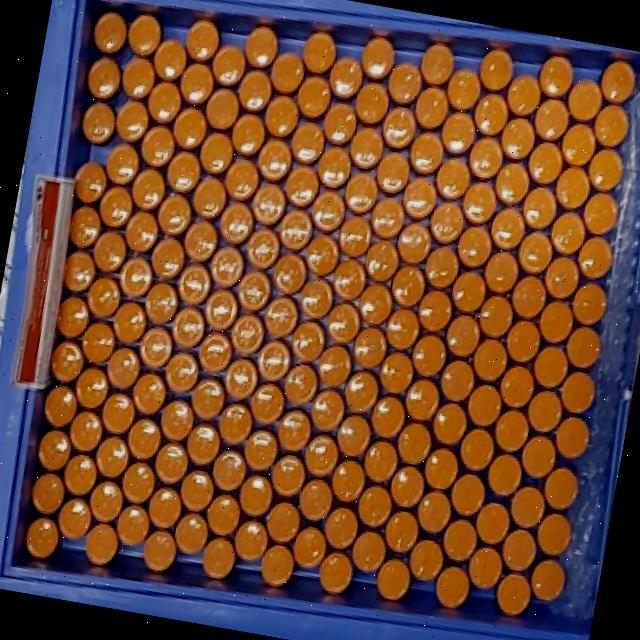vials: (0, 0, 640, 640), (495, 572, 531, 616), (600, 59, 635, 104), (467, 546, 503, 589), (505, 320, 541, 363), (511, 275, 547, 318), (533, 98, 569, 141), (587, 148, 623, 191), (582, 192, 618, 235), (571, 282, 607, 325), (86, 56, 121, 100), (150, 236, 185, 280), (357, 484, 392, 528), (409, 131, 444, 175), (527, 142, 563, 184), (179, 62, 214, 105), (211, 44, 246, 87), (237, 69, 272, 112), (278, 208, 313, 251), (74, 366, 109, 409), (121, 461, 156, 504), (238, 473, 273, 516), (296, 75, 331, 118), (328, 56, 363, 99), (265, 501, 300, 544), (322, 102, 357, 145), (336, 414, 371, 457), (387, 62, 422, 105), (379, 351, 414, 394), (363, 440, 398, 483), (411, 334, 446, 377), (417, 289, 452, 332), (440, 359, 475, 402), (432, 402, 467, 445), (442, 519, 477, 562), (446, 68, 481, 111), (457, 225, 492, 268), (450, 473, 485, 516), (475, 502, 510, 545), (536, 513, 571, 556), (510, 486, 545, 529), (467, 384, 502, 427), (459, 428, 494, 471), (487, 453, 522, 496), (494, 409, 529, 452), (521, 435, 556, 478), (543, 467, 578, 510), (538, 55, 573, 98), (500, 117, 535, 160), (494, 162, 529, 205), (490, 207, 525, 250), (483, 251, 518, 294), (478, 295, 513, 338), (499, 365, 534, 408), (567, 79, 602, 122), (561, 123, 596, 166), (555, 166, 590, 209), (550, 212, 585, 255), (538, 300, 573, 343), (533, 345, 568, 388), (527, 390, 562, 433), (577, 236, 612, 279), (115, 99, 149, 143), (271, 454, 305, 498), (304, 434, 338, 478), (311, 189, 345, 233), (441, 111, 475, 155), (361, 36, 394, 81), (140, 125, 175, 167), (270, 52, 305, 94), (98, 186, 133, 228), (166, 151, 201, 193), (251, 183, 286, 225), (236, 270, 271, 312), (183, 220, 218, 262), (157, 193, 192, 235), (68, 410, 103, 452), (154, 442, 189, 484), (164, 351, 199, 393), (159, 399, 194, 441), (263, 296, 298, 338), (256, 340, 291, 382), (179, 469, 214, 511), (264, 95, 299, 137), (256, 139, 291, 181), (283, 363, 318, 405), (284, 165, 319, 207), (352, 326, 387, 368), (351, 530, 386, 572), (424, 246, 459, 288), (445, 315, 480, 357), (468, 137, 503, 179), (530, 559, 565, 601), (506, 74, 541, 116), (472, 339, 507, 381), (517, 232, 552, 274), (544, 256, 579, 298), (560, 371, 595, 413), (593, 104, 628, 146), (566, 326, 601, 368), (185, 19, 219, 62), (147, 81, 181, 124), (105, 142, 139, 185), (244, 25, 278, 68), (231, 113, 265, 156), (332, 258, 366, 301), (177, 263, 211, 306), (106, 346, 140, 389), (44, 385, 78, 428), (63, 453, 97, 496), (57, 497, 91, 540), (89, 480, 123, 523), (95, 435, 129, 478), (116, 503, 150, 546), (127, 417, 161, 460), (191, 377, 225, 420), (186, 422, 220, 465), (224, 357, 258, 400), (206, 493, 240, 536), (290, 121, 324, 164), (277, 409, 311, 452), (260, 544, 294, 587), (317, 145, 351, 188), (349, 126, 383, 169), (344, 171, 378, 214), (344, 370, 378, 413), (324, 506, 358, 549), (382, 106, 416, 149), (385, 308, 419, 351), (371, 395, 405, 438), (384, 510, 418, 553), (376, 558, 410, 601), (397, 422, 431, 465), (405, 378, 439, 421), (391, 265, 425, 308), (424, 447, 458, 490), (417, 490, 451, 533), (409, 538, 443, 581), (420, 42, 454, 85), (414, 86, 448, 129), (402, 176, 436, 219), (429, 201, 463, 244), (479, 48, 513, 91), (522, 186, 556, 229), (555, 416, 589, 459), (24, 517, 59, 558), (290, 321, 325, 362), (451, 272, 486, 313), (93, 11, 127, 53), (127, 14, 161, 56), (121, 57, 155, 99), (81, 102, 115, 144), (205, 88, 239, 130), (173, 108, 207, 150), (131, 168, 165, 210), (199, 132, 233, 174), (225, 159, 259, 201), (192, 176, 226, 218), (246, 228, 280, 270), (86, 276, 120, 318), (50, 340, 84, 382), (81, 321, 115, 363), (112, 301, 146, 343), (144, 282, 178, 324), (139, 326, 173, 368), (101, 392, 135, 434), (37, 429, 71, 471), (31, 472, 65, 514), (85, 523, 119, 565), (132, 373, 166, 415), (174, 512, 208, 554), (204, 289, 238, 331), (198, 331, 232, 373), (218, 403, 252, 445), (212, 449, 246, 491), (250, 382, 284, 424), (234, 519, 268, 561), (292, 526, 326, 568), (298, 479, 332, 521), (310, 389, 344, 431), (317, 345, 351, 387), (355, 82, 389, 124), (364, 239, 398, 281), (331, 460, 365, 502), (319, 552, 353, 594), (390, 466, 424, 508), (397, 222, 431, 264), (435, 566, 469, 608), (435, 158, 469, 200), (474, 93, 508, 135), (502, 529, 536, 571), (56, 295, 89, 338), (370, 198, 405, 238), (219, 203, 253, 244), (210, 247, 244, 288), (124, 211, 158, 252), (92, 231, 126, 272), (119, 256, 153, 297), (171, 307, 205, 348), (230, 314, 264, 355), (244, 430, 278, 471), (358, 284, 392, 325), (462, 183, 496, 224), (153, 39, 186, 81), (74, 161, 107, 203), (148, 486, 181, 528), (143, 530, 176, 572), (303, 32, 336, 74), (327, 302, 360, 344), (338, 215, 371, 257), (376, 152, 409, 194), (69, 205, 101, 248), (305, 235, 339, 275), (273, 253, 306, 294), (202, 537, 235, 578), (300, 278, 333, 319), (63, 250, 95, 292)
